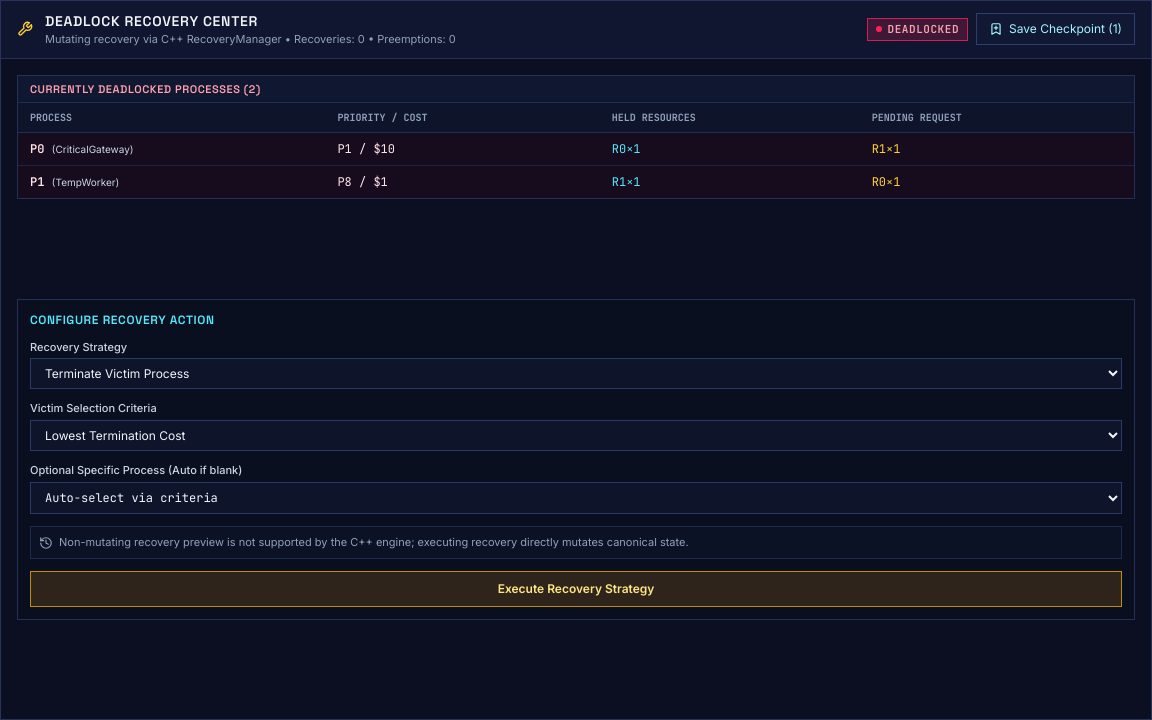
Test case: Phase 6D Recovery Center & 6E Process/Resource Manager › requires confirmation dialog before executing recovery and shows before/after comparison
What coordinates should you click on to do the following:
click the button "Execute Recovery Strategy"
I would click on:
 (576, 589)
Its box is [30,571,1122,607].
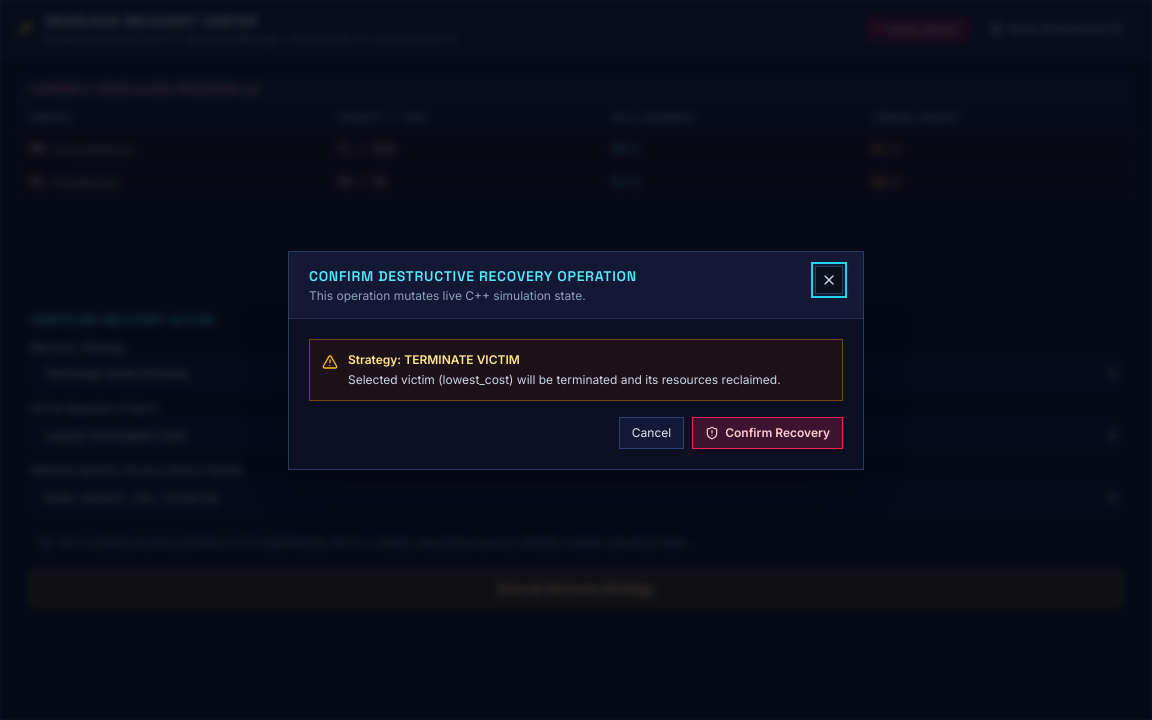
Expected: the heading "Confirm Destructive Recovery Operation" is shown, [309,266,637,286]
What coordinates should you click on to do the following:
click the button "Confirm Recovery"
I would click on:
 (768, 432)
Its box is [692,416,843,448].
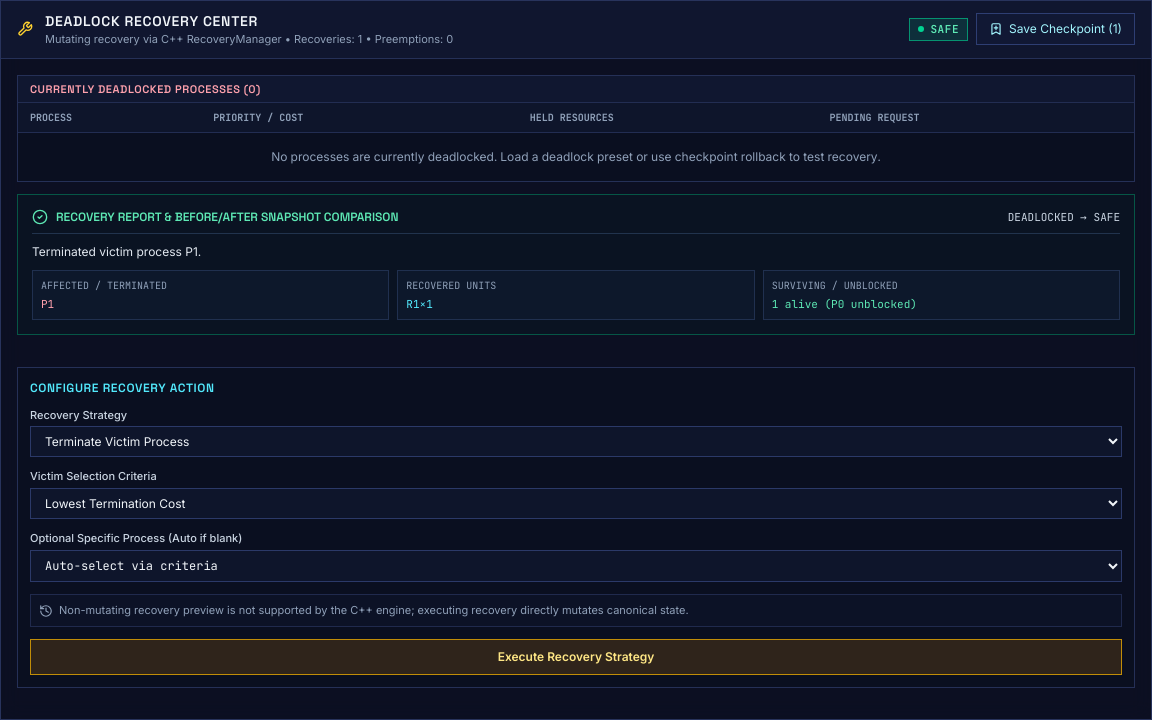
Expected: the text "DEADLOCKED → SAFE" is shown, [1008,210,1120,225]
Expected: the text "Terminated victim process P1." is shown, [32,244,201,260]
